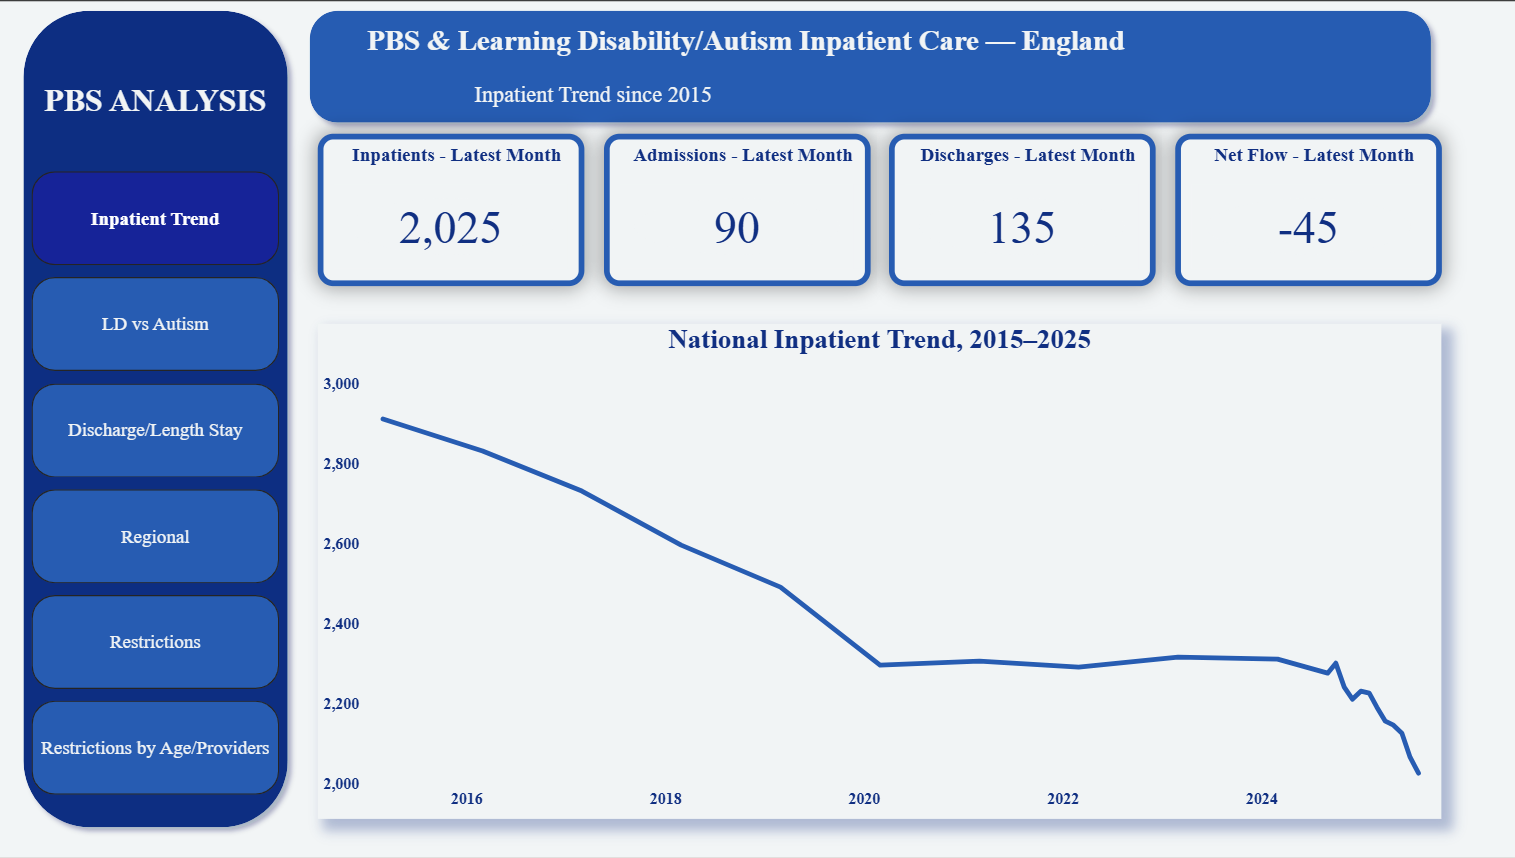

The page's visual inventory and layout, read from the dashboard file:
{"tool":"powerbi","page":{"name":"Inpatient Trend","canvas":[1280,720],"ordinal":0},"visuals":[{"type":"shape","box":[256,0,960,112],"z":0},{"type":"shape","box":[16,0,240,704],"z":1000},{"type":"cardVisual","title":"Inpatients - Latest Month","fields":{"Data":["_Measures.Total Inpatients (Latest)"]},"box":[272,112,224,128],"z":2000},{"type":"textbox","box":[288,16,688,48],"z":3000},{"type":"cardVisual","title":"Admissions - Latest Month","fields":{"Data":["_Measures.Admissions (Latest Month)"]},"box":[512,112,224,128],"z":4000},{"type":"cardVisual","title":"Discharges - Latest Month","fields":{"Data":["_Measures.Discharges (Latest Month)"]},"box":[752,112,224,128],"z":5000},{"type":"cardVisual","title":"Net Flow - Latest Month","fields":{"Data":["_Measures.Net Flow (Latest Month)"]},"box":[992,112,224,128],"z":6000},{"type":"lineChart","title":"National Inpatient Trend, 2015–2025","fields":{"Category":["Dim_Date.Date"],"Y":["_Measures.Total Inpatients"]},"box":[272,272,944,416],"z":7000},{"type":"textbox","box":[304,64,400,32],"z":8000},{"type":"pageNavigator","box":[32,144,208,528],"z":9000},{"type":"textbox","box":[32,64,208,64],"z":10000}]}

Visuals, with their boxes in screenshot pixels (x1, y1, x2, y2), scaled from the page's 1280x720 canvas onto the 1515x858 screenshot:
shape: bbox=[303, 0, 1439, 133]
shape: bbox=[19, 0, 303, 839]
"Inpatients - Latest Month" cardVisual: bbox=[322, 133, 587, 286]
textbox: bbox=[341, 19, 1155, 76]
"Admissions - Latest Month" cardVisual: bbox=[606, 133, 871, 286]
"Discharges - Latest Month" cardVisual: bbox=[890, 133, 1155, 286]
"Net Flow - Latest Month" cardVisual: bbox=[1174, 133, 1439, 286]
"National Inpatient Trend, 2015–2025" lineChart: bbox=[322, 324, 1439, 820]
textbox: bbox=[360, 76, 833, 114]
pageNavigator: bbox=[38, 172, 284, 801]
textbox: bbox=[38, 76, 284, 153]
